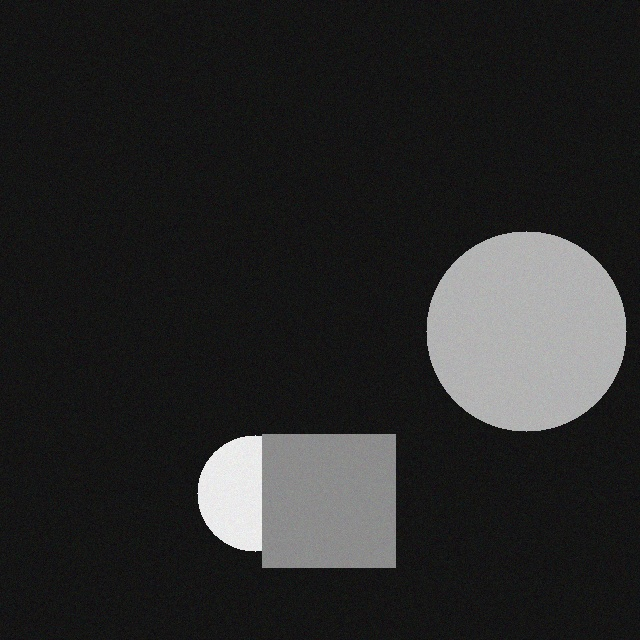circle: (419, 230, 619, 430), (190, 434, 306, 550)
square: (255, 433, 388, 566)
